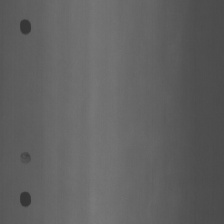oil_spot: (18, 16, 32, 36), (18, 189, 31, 208), (19, 149, 31, 164)
